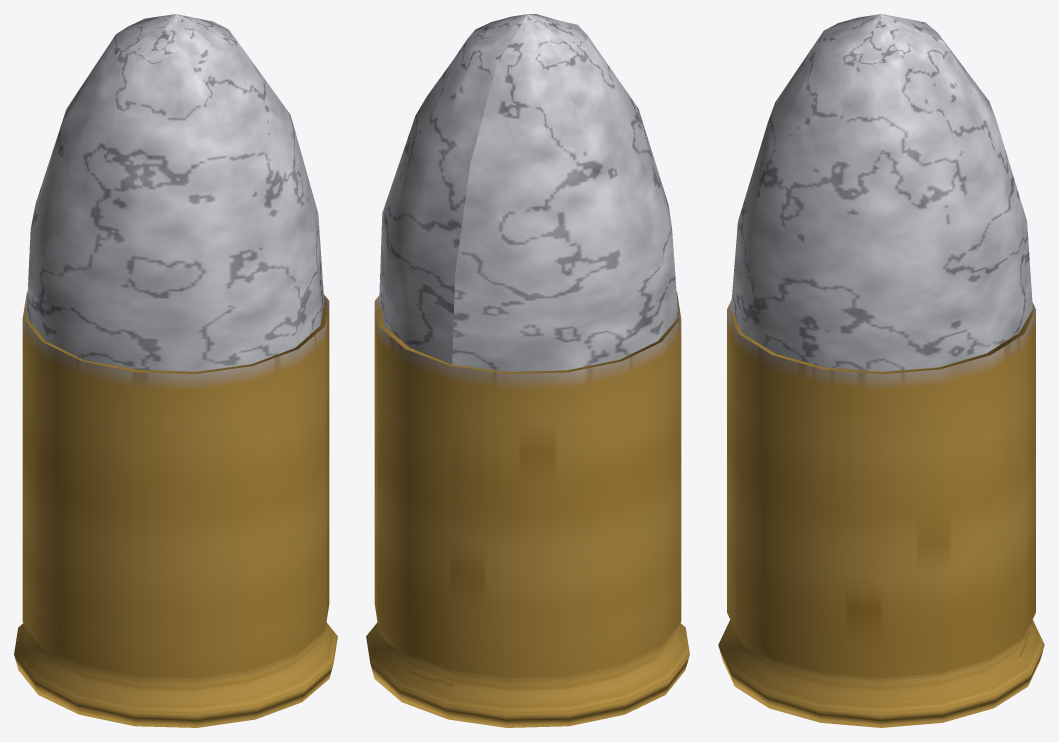
File: candybullet.obj
The picture shows the model from 3 angles, left to right: view 1: azimuth 30°, elevation 25°; view 2: azimuth 150°, elevation 25°; view 3: azimuth 270°, elevation 25°; orthographic projection.
Parts seen in each view (by area): view 1: candybullet_0_surface; view 2: candybullet_0_surface; view 3: candybullet_0_surface.
Boxes of the visible parts, <box> form: candybullet_0_surface: <box>14,14,337,727</box>; candybullet_0_surface: <box>366,14,689,727</box>; candybullet_0_surface: <box>718,14,1044,727</box>.
Bounding box in the file's own units: 0.074 × 0.1638 × 0.074.
1 material, 1 textured.
